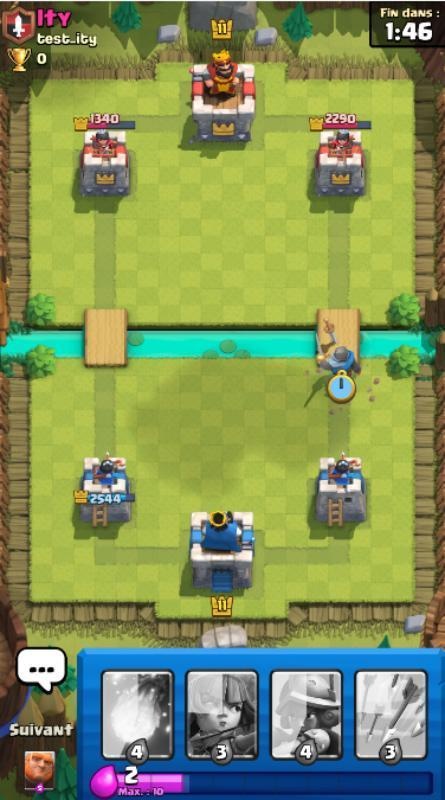player_knight: (307, 336, 369, 378)
